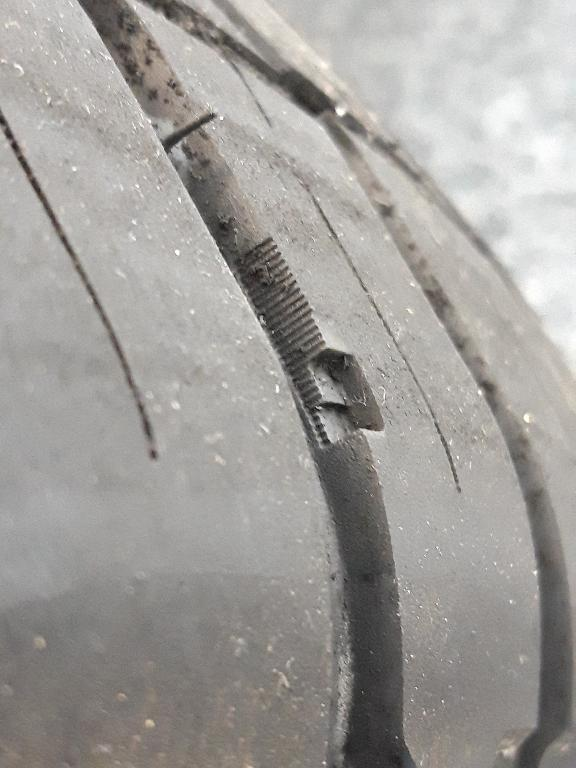temoin:50: (265, 306, 396, 459)
